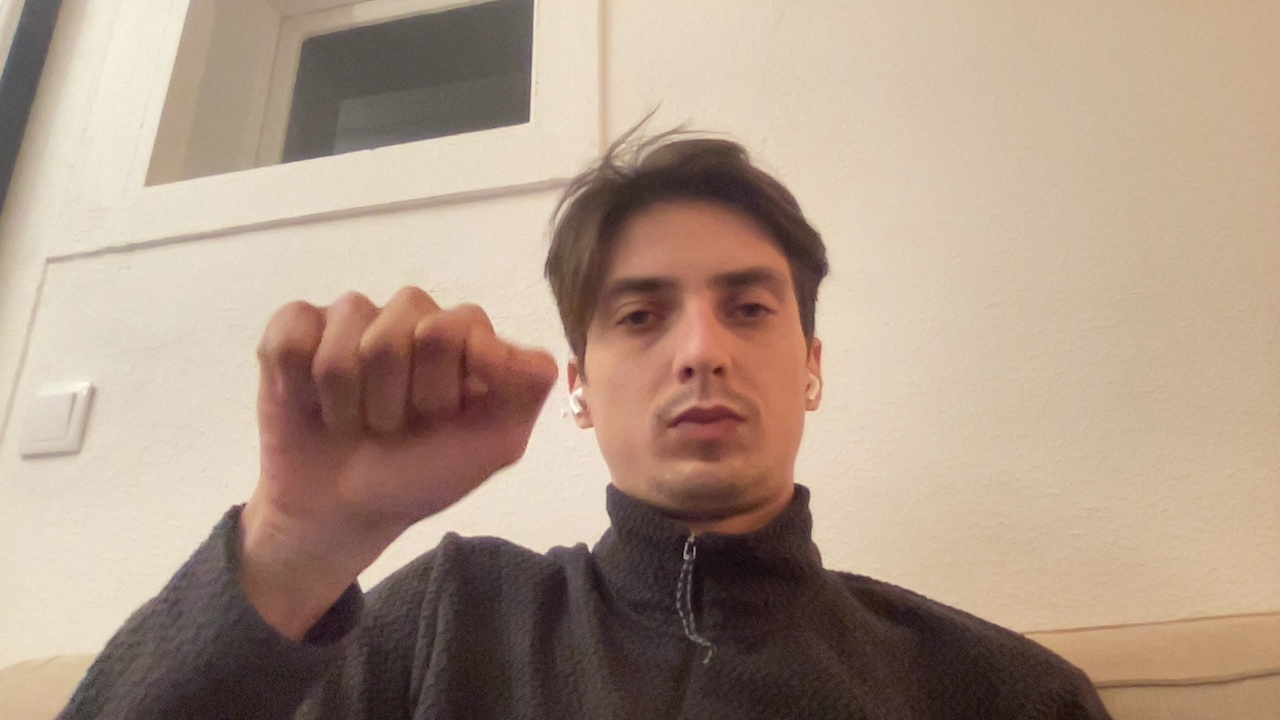Yes: (234, 271, 562, 571)
